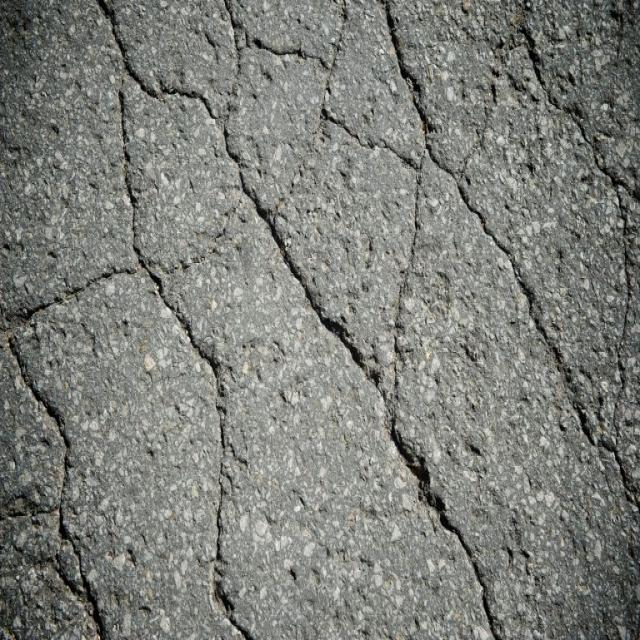Drain Hole: (81, 11, 640, 624)
